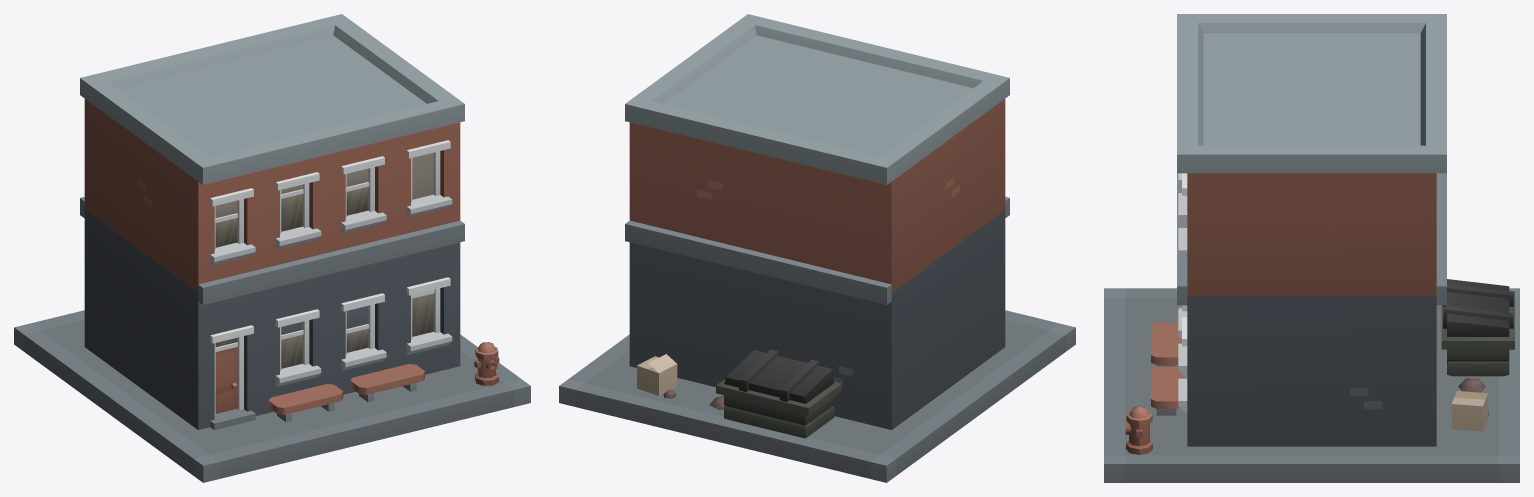
Rendered from nyc-brownstone-c.glb.
The picture shows the model from 3 angles, left to right: view 1: azimuth 30°, elevation 25°; view 2: azimuth 150°, elevation 25°; view 3: azimuth 270°, elevation 25°; orthographic projection. The views are drawn at different scales.
Parts seen in each view (by area): view 1: building_B; view 2: building_B; view 3: building_B.
Part boxes in pixels (x1,y1,x2,y2): building_B: (14,14,530,482); building_B: (559,14,1075,482); building_B: (1104,14,1519,482).
Bounding box in the file's own units: 2 × 1.65 × 2.
2 materials, 2 textured.
